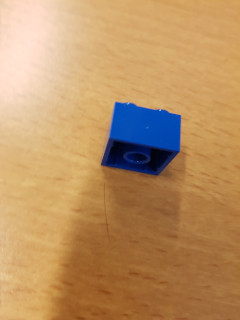2x2 blue: (98, 99, 183, 179)
